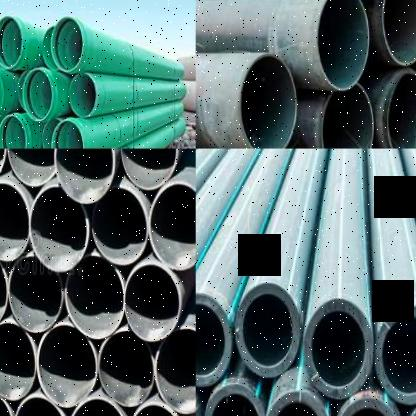pipe: (303, 298, 373, 399), (235, 283, 301, 377), (239, 52, 298, 149), (29, 188, 90, 272), (37, 323, 98, 406), (65, 254, 124, 339), (316, 0, 369, 91), (92, 187, 148, 265), (98, 330, 154, 408), (125, 265, 180, 342), (148, 182, 196, 270), (9, 256, 63, 334), (375, 304, 416, 405), (154, 326, 196, 415), (320, 81, 374, 149), (196, 292, 232, 386), (54, 148, 114, 204), (0, 322, 36, 400), (0, 182, 30, 262), (386, 70, 416, 148), (381, 0, 416, 66), (122, 148, 176, 190), (203, 382, 265, 416), (7, 148, 60, 186), (50, 16, 83, 73), (264, 389, 332, 416), (22, 69, 53, 122), (334, 398, 402, 416), (0, 16, 23, 69), (69, 74, 96, 117), (14, 395, 68, 416), (66, 398, 129, 416), (0, 113, 27, 148), (50, 120, 83, 148), (128, 403, 184, 416), (0, 248, 8, 332)
